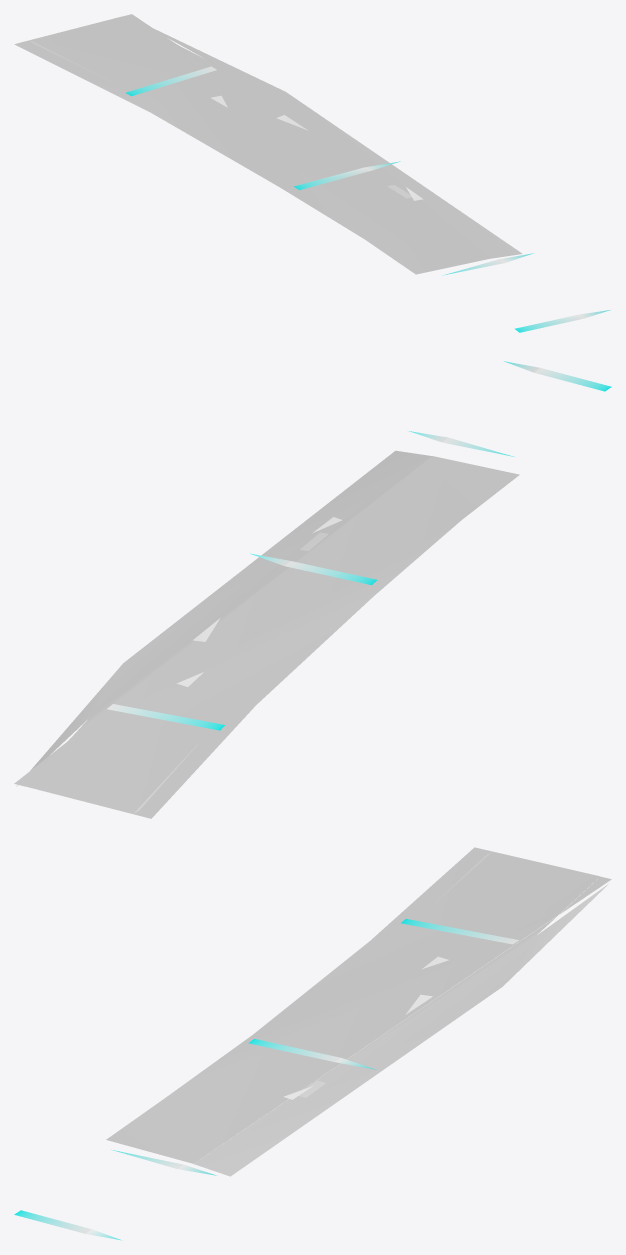
The model's file is cell_72_51.fbx.
3 views of the same model, one above another, from view 1: azimuth 30°, elevation 25°; view 2: azimuth 150°, elevation 25°; view 3: azimuth 330°, elevation 25° (orthographic). The views are drawn at different scales.
Parts seen in each view (by area): view 1: SpaceCenter_Long3_GenerateRoad_Asphalt_Mesh_x90_y63_14283_HD, SpaceCenter_Long3_GenerateRoad_Asphalt_Mesh_x90_y64_14284_HD, SpaceCenter_Long3_GenerateRoad_Asphalt_PCGMesh_Decal_Mesh_x9 (×2); view 2: SpaceCenter_Long3_GenerateRoad_Asphalt_Mesh_x90_y63_14283_HD, SpaceCenter_Long3_GenerateRoad_Asphalt_Mesh_x90_y64_14284_HD, SpaceCenter_Long3_GenerateRoad_Asphalt_PCGMesh_Decal_Mesh_x9 (×2); view 3: SpaceCenter_Long3_GenerateRoad_Asphalt_Mesh_x90_y63_14283_HD, SpaceCenter_Long3_GenerateRoad_Asphalt_Mesh_x90_y64_14284_HD, SpaceCenter_Long3_GenerateRoad_Asphalt_PCGMesh_Decal_Mesh_x9 (×2).
Part boxes in pixels (x1,y1,x2,y2): SpaceCenter_Long3_GenerateRoad_Asphalt_Mesh_x90_y63_14283_HD: (14, 14, 490, 274); SpaceCenter_Long3_GenerateRoad_Asphalt_Mesh_x90_y64_14284_HD: (154, 29, 522, 258); SpaceCenter_Long3_GenerateRoad_Asphalt_PCGMesh_Decal_Mesh_x9 (×2): (125, 66, 583, 332); SpaceCenter_Long3_GenerateRoad_Asphalt_Mesh_x90_y63_14283_HD: (14, 456, 519, 818); SpaceCenter_Long3_GenerateRoad_Asphalt_Mesh_x90_y64_14284_HD: (16, 450, 431, 786); SpaceCenter_Long3_GenerateRoad_Asphalt_PCGMesh_Decal_Mesh_x9 (×2): (107, 368, 611, 730); SpaceCenter_Long3_GenerateRoad_Asphalt_Mesh_x90_y63_14283_HD: (106, 847, 611, 1163); SpaceCenter_Long3_GenerateRoad_Asphalt_Mesh_x90_y64_14284_HD: (194, 884, 608, 1176); SpaceCenter_Long3_GenerateRoad_Asphalt_PCGMesh_Decal_Mesh_x9 (×2): (14, 919, 518, 1233).
Size of the model in its own units: 15.63 by 2.9 by 80.52.
